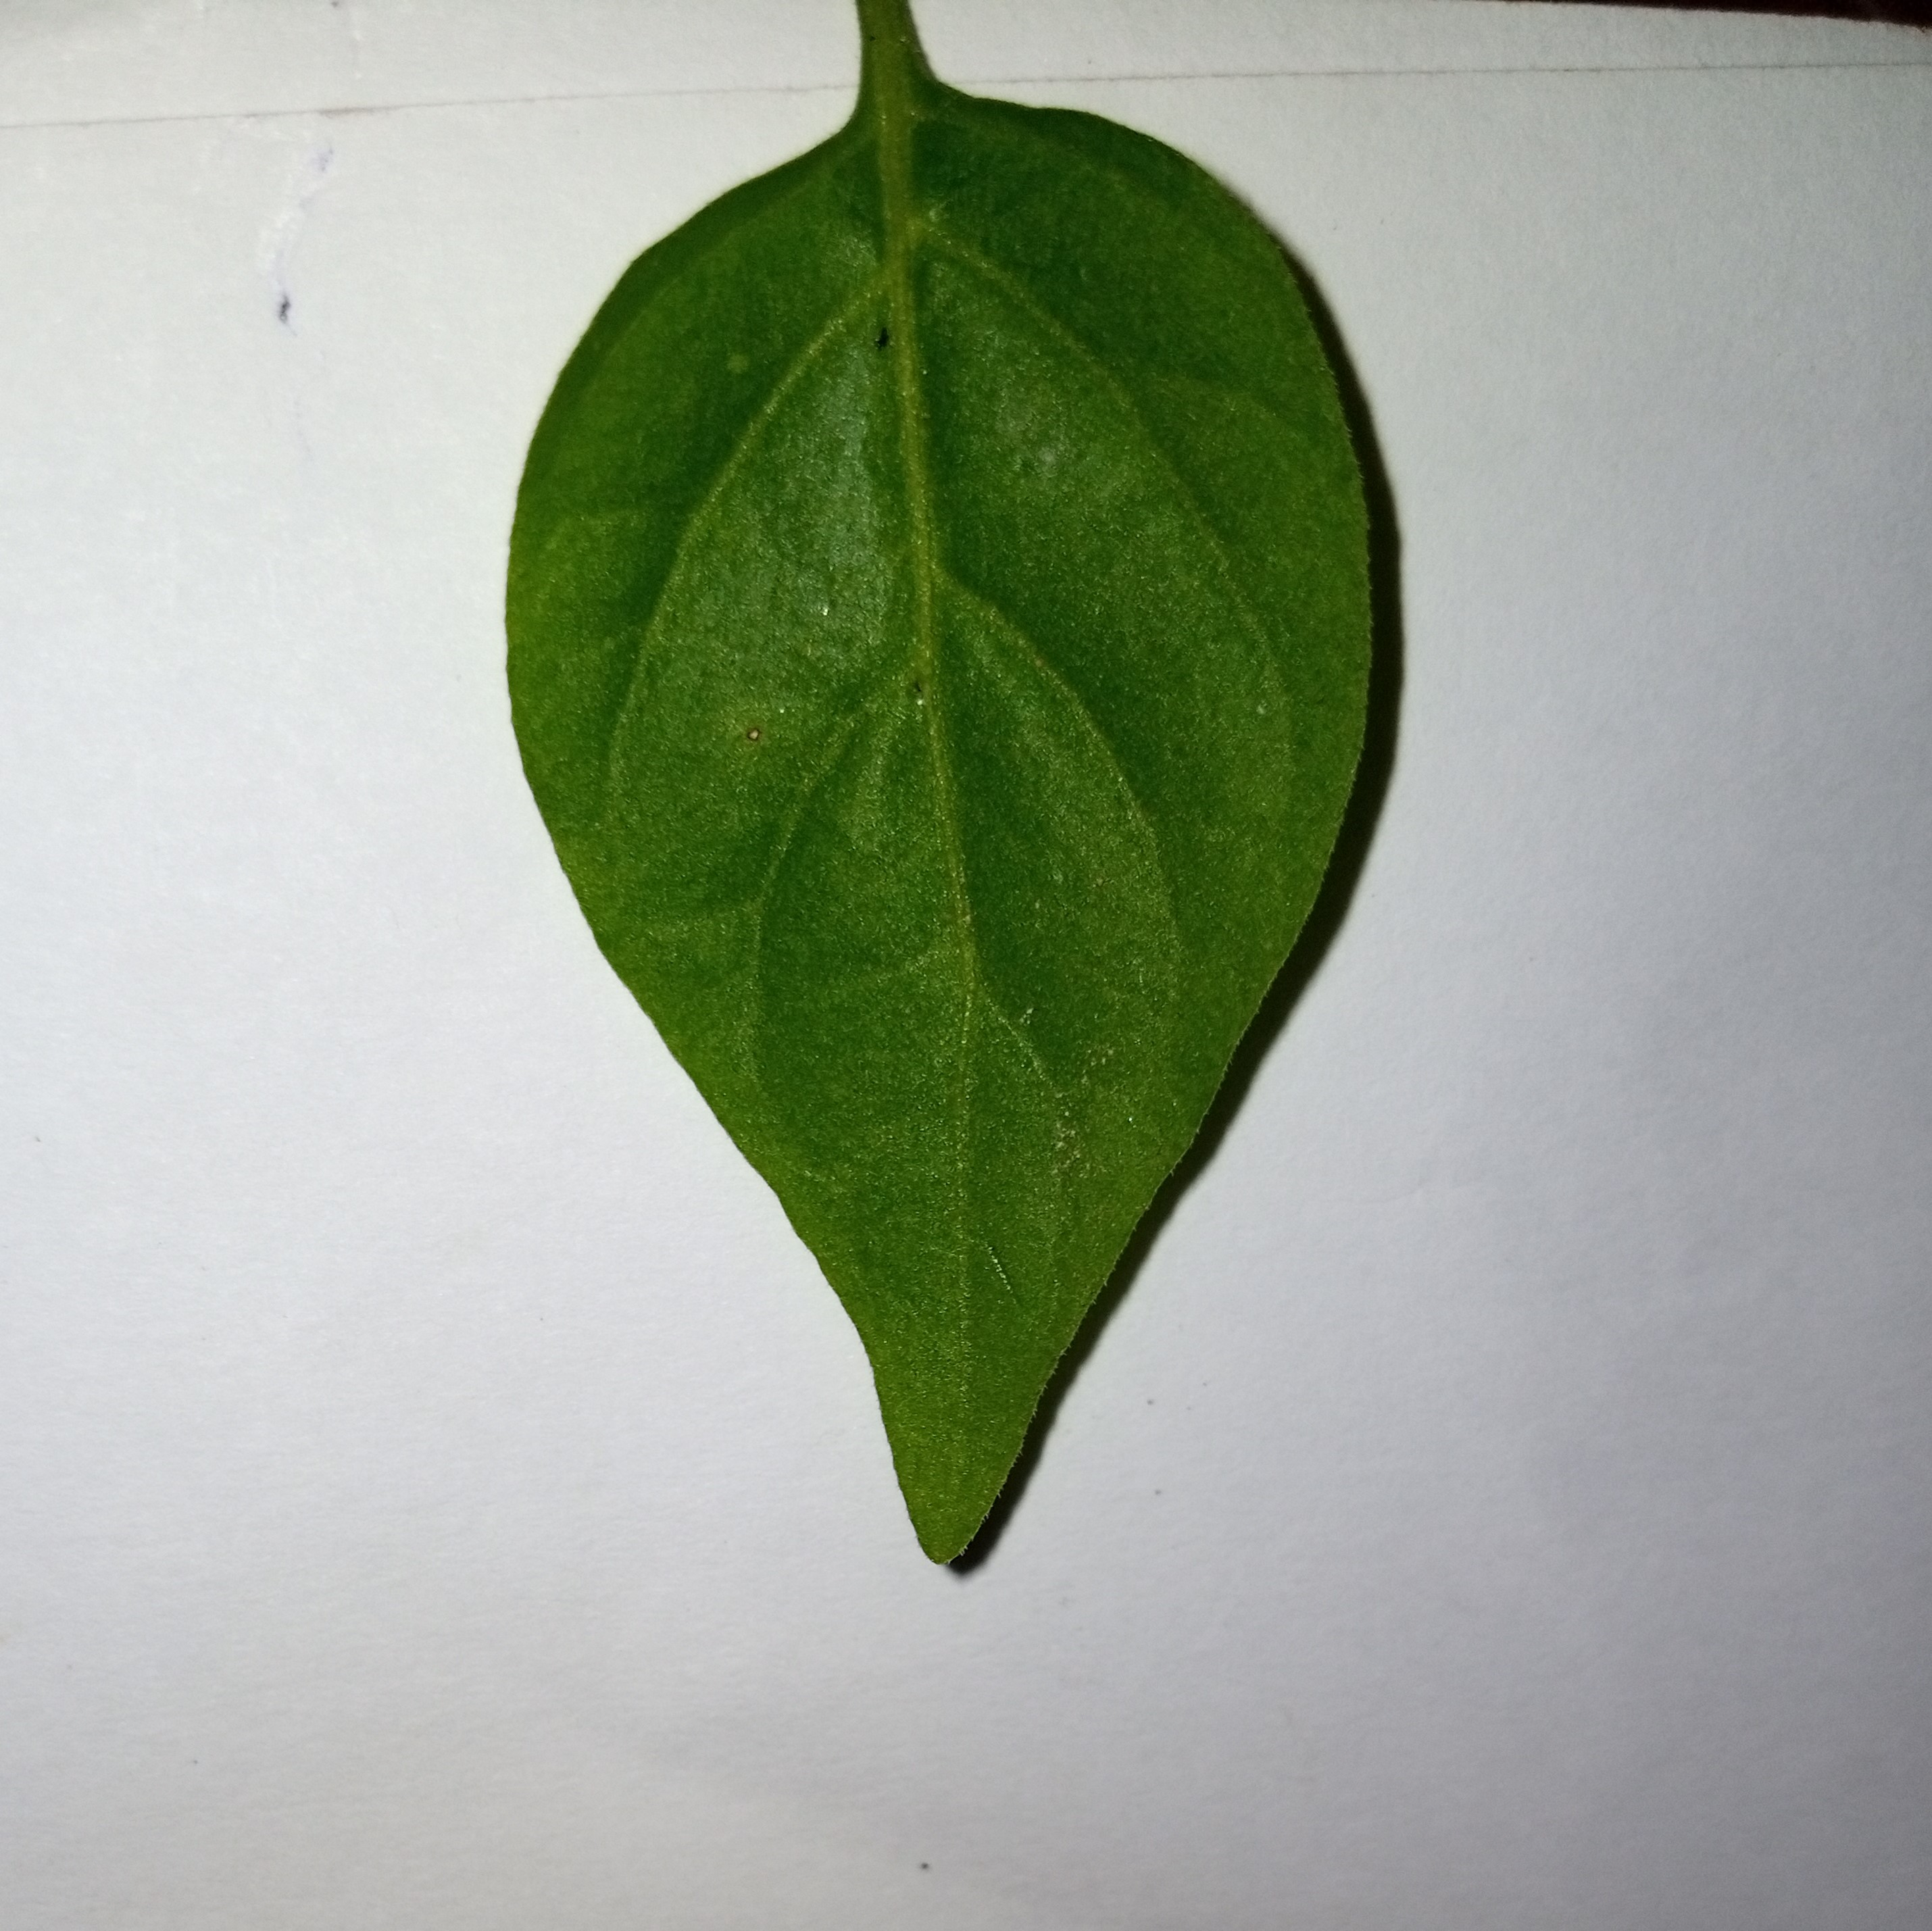Leaf: (375, 41, 1580, 1701)
